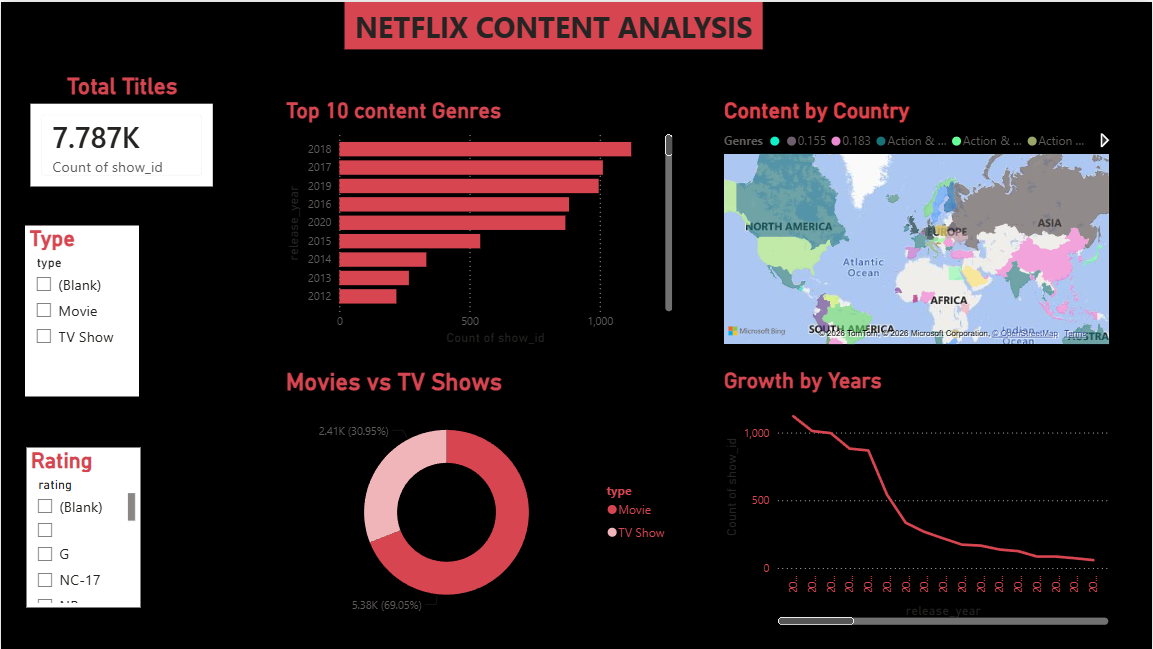

Layout of this report page (visuals, bound fields, positions):
{"tool":"powerbi","page":{"name":"Netflix Content Analysis","canvas":[1280,720],"ordinal":0},"visuals":[{"type":"textbox","box":[381.6,0,464.9,53],"z":0},{"type":"cardVisual","title":"Total Titles","fields":{"Data":["Count(NetFlix.show_id)"]},"box":[27.3,78.7,215,133.3],"z":1000},{"type":"donutChart","title":"Movies vs TV Shows","fields":{"Category":["NetFlix.type"],"Y":["Count(NetFlix.show_id)"]},"box":[311.7,406.7,440,290],"z":2000},{"type":"lineChart","title":"Growth by Years","fields":{"Y":["CountNonNull(NetFlix.show_id)"],"Category":["NetFlix.release_year"]},"box":[798.3,406.7,436.7,290],"z":3000},{"type":"clusteredBarChart","title":"Top 10 content Genres","fields":{"Y":["CountNonNull(NetFlix.show_id)"],"Category":["NetFlix.release_year"]},"box":[311.9,106,439.1,278.6],"z":4000},{"type":"filledMap","title":"Content by Country","fields":{"Category":["NetFlix.country"],"Series":["Netflix_Recommendations.Genres"]},"box":[798,106,437.6,278.6],"z":5000},{"type":"slicer","title":"Type","fields":{"Values":["NetFlix.type"]},"box":[26.7,248.3,126.7,190],"z":5001},{"type":"slicer","title":"Rating","fields":{"Values":["NetFlix.rating"]},"box":[28.8,495.1,125.7,177.2],"z":5002}]}

Visuals, with their boxes in screenshot pixels (x1, y1, x2, y2), scaled from the page's 1280x720 canvas onto the 1153x649 screenshot:
textbox: box=[344, 0, 763, 48]
"Total Titles" cardVisual: box=[25, 71, 218, 191]
"Movies vs TV Shows" donutChart: box=[281, 367, 677, 628]
"Growth by Years" lineChart: box=[719, 367, 1112, 628]
"Top 10 content Genres" clusteredBarChart: box=[281, 96, 676, 347]
"Content by Country" filledMap: box=[719, 96, 1113, 347]
"Type" slicer: box=[24, 224, 138, 395]
"Rating" slicer: box=[26, 446, 139, 606]
